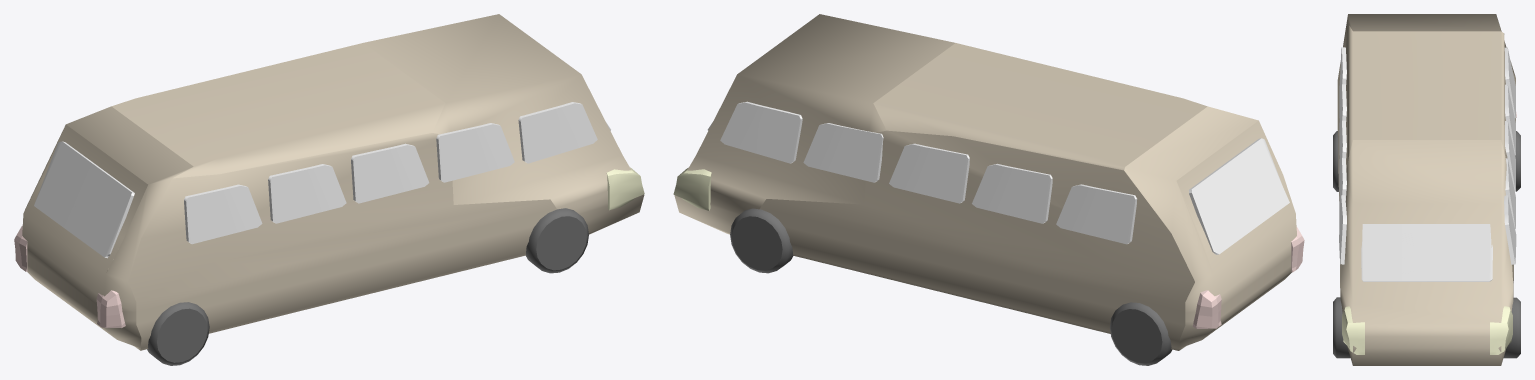
Rendered from CarroVeige.fbx.
The picture shows the model from 3 angles, left to right: view 1: azimuth 30°, elevation 25°; view 2: azimuth 150°, elevation 25°; view 3: azimuth 270°, elevation 25°; orthographic projection. The views are drawn at different scales.
Parts seen in each view (by area): view 1: pCube1, pCube10, pCube8, pCube13, pCube14, pCube12, pasted__pCube8, pCylinder1, pCylinder2, pCube11, pCube9; view 2: pCube1, pCube10, pasted__pasted__pCube12, pasted__pCube17, pasted__pCube15, pasted__pCube16, pasted__pCube12, pCylinder3, pCylinder4, pCube11, pCube9; view 3: pCube1, pCube6, pCube9, pCylinder1, pCylinder3, pasted__pasted__pCube12, pasted__pCube8, pasted__pCube17, pasted__pCube15, pasted__pCube16, pasted__pCube12, pCylinder2 (+5 smaller).
Part boxes in pixels (box(x1,y1,x2,y2)): pCube1: box(22, 14, 644, 350); pCube10: box(34, 141, 134, 258); pCube8: box(436, 123, 514, 182); pCube13: box(268, 164, 346, 223); pCube14: box(184, 184, 262, 244); pCube12: box(351, 143, 429, 203); pasted__pCube8: box(518, 102, 597, 163); pCylinder1: box(526, 208, 588, 273); pCylinder2: box(147, 302, 209, 365); pCube11: box(14, 226, 125, 327); pCube9: box(606, 167, 644, 210); pCube1: box(674, 14, 1296, 350); pCube10: box(1189, 138, 1289, 254); pasted__pasted__pCube12: box(720, 101, 802, 163); pasted__pCube17: box(1056, 184, 1137, 244); pasted__pCube15: box(889, 143, 969, 203); pasted__pCube16: box(972, 163, 1052, 223); pasted__pCube12: box(803, 123, 883, 182); pCylinder3: box(730, 208, 793, 273); pCylinder4: box(1109, 302, 1172, 365); pCube11: box(1193, 227, 1304, 328); pCube9: box(673, 167, 711, 210); pCube1: box(1337, 14, 1515, 365); pCube6: box(1361, 224, 1492, 281); pCube9: box(1342, 306, 1512, 354); pCylinder1: box(1333, 297, 1350, 358); pCylinder3: box(1503, 297, 1520, 358); pasted__pasted__pCube12: box(1504, 195, 1516, 264); pasted__pCube8: box(1339, 195, 1346, 264); pasted__pCube17: box(1504, 47, 1515, 118); pasted__pCube15: box(1505, 120, 1515, 191); pasted__pCube16: box(1505, 84, 1515, 155); pasted__pCube12: box(1505, 158, 1515, 228); pCylinder2: box(1333, 131, 1338, 191).
Size of the model in its own units: 33.34 by 11.06 by 11.09.
